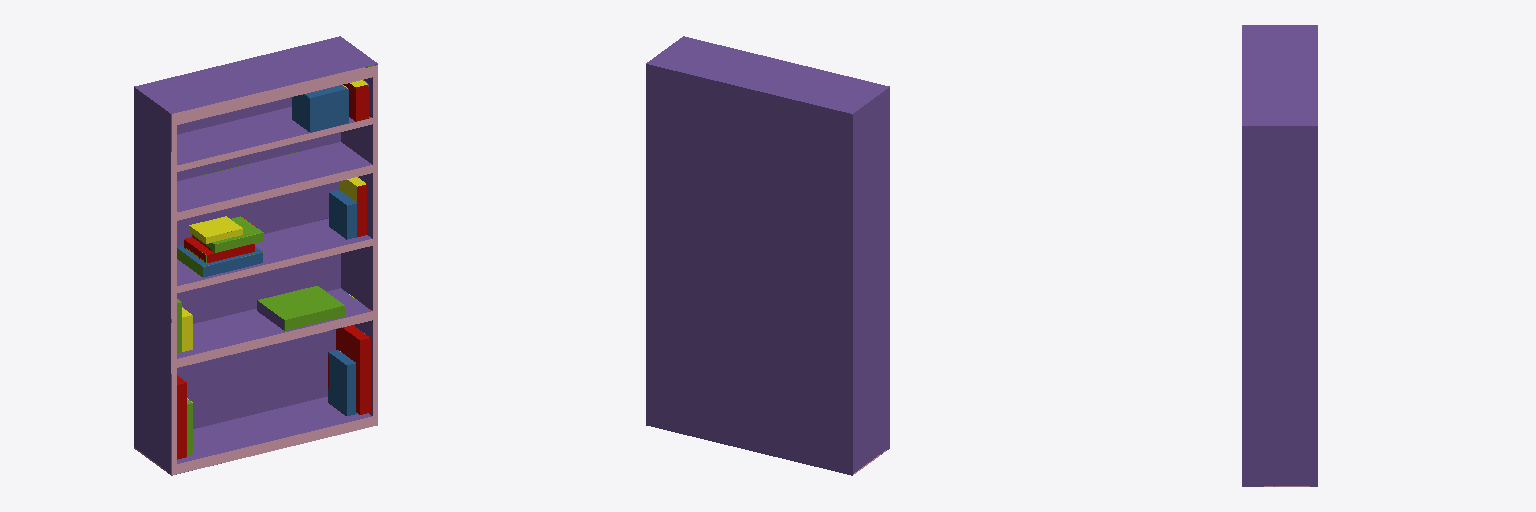
3 views of the same model, side by side, from view 1: azimuth 30°, elevation 25°; view 2: azimuth 150°, elevation 25°; view 3: azimuth 270°, elevation 25° (orthographic).
Parts seen in each view (by area): view 1: Cube.005_Cube.009; view 2: Cube.005_Cube.009; view 3: Cube.005_Cube.009.
Part boxes in pixels (bbox=[...]): Cube.005_Cube.009: bbox=[134, 36, 377, 475]; Cube.005_Cube.009: bbox=[646, 36, 889, 475]; Cube.005_Cube.009: bbox=[1242, 25, 1317, 486].
Size of the model in its own units: 14.97 by 25.01 by 4.72.
Materials: 1 (1 with a texture image).